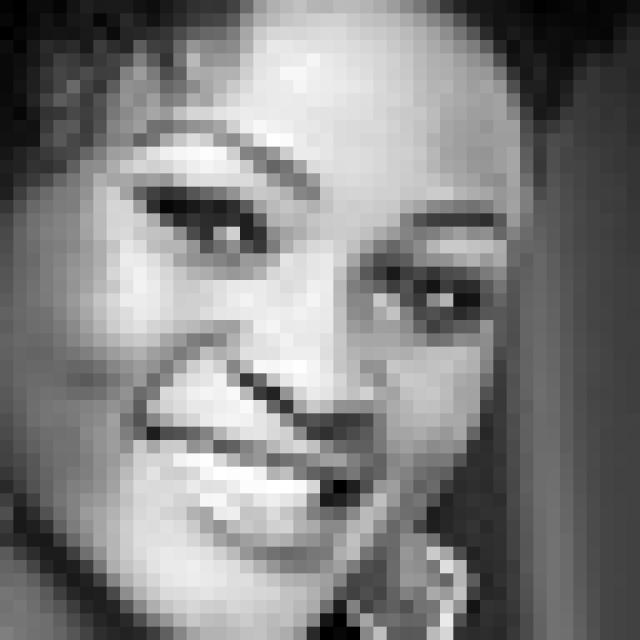happy: (113, 106, 512, 568)
